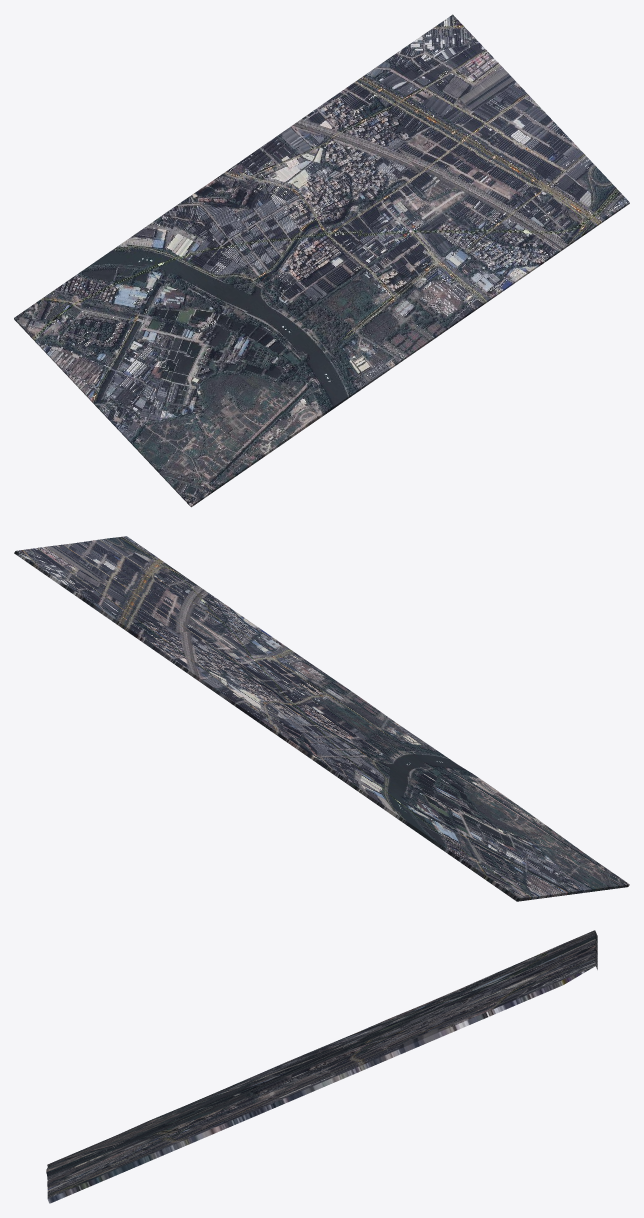
The picture shows the model from 3 angles, top to bottom: view 1: azimuth 30°, elevation 25°; view 2: azimuth 150°, elevation 25°; view 3: azimuth 270°, elevation 25°; orthographic projection. The views are drawn at different scales.
Parts seen in each view (by area): view 1: 2_5_0; view 2: 2_5_0; view 3: 2_5_0.
Boxes of the visible parts, x1=… form: 2_5_0: x1=14, y1=14, x2=629, y2=507; 2_5_0: x1=14, y1=536, x2=629, y2=901; 2_5_0: x1=46, y1=930, x2=597, y2=1203.
Size of the model in its own units: 2262 by 1334 by 1126.
Materials: 1 (1 with a texture image).
